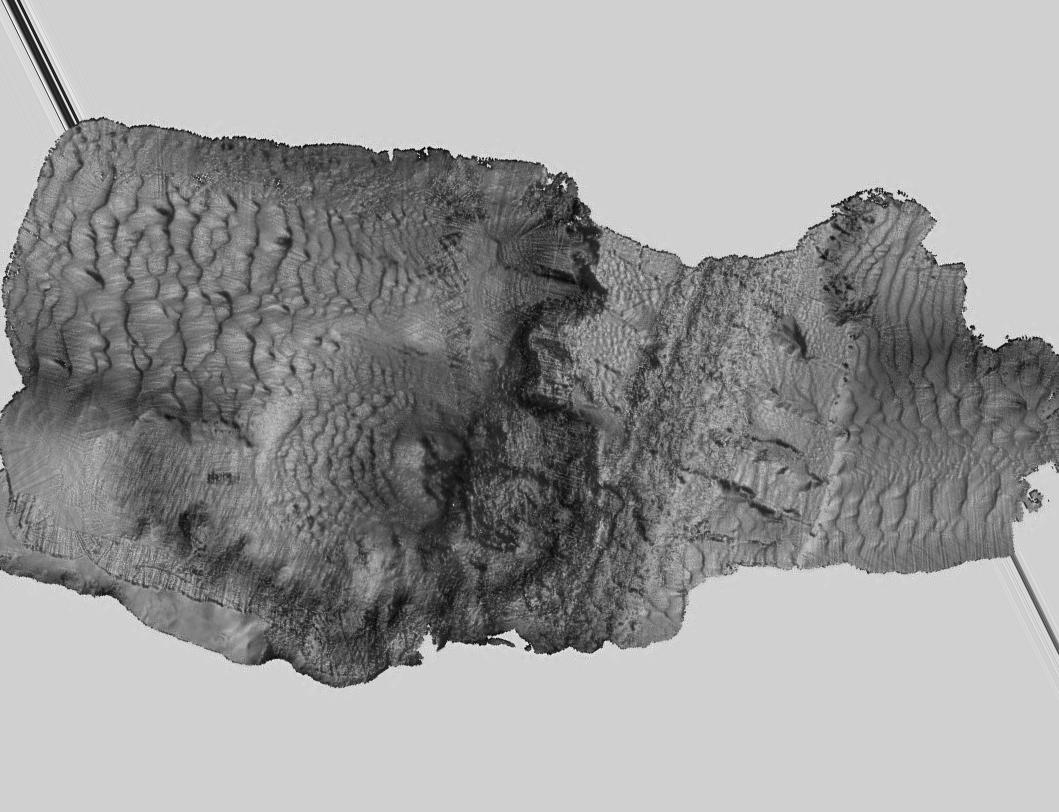Dune: (40, 150, 377, 398), (850, 225, 981, 599), (255, 394, 396, 560)
Scarp: (202, 565, 597, 752), (330, 566, 738, 739)
Scour pit: (372, 426, 527, 537)
Submerged dike: (628, 246, 760, 685), (584, 414, 726, 704)
